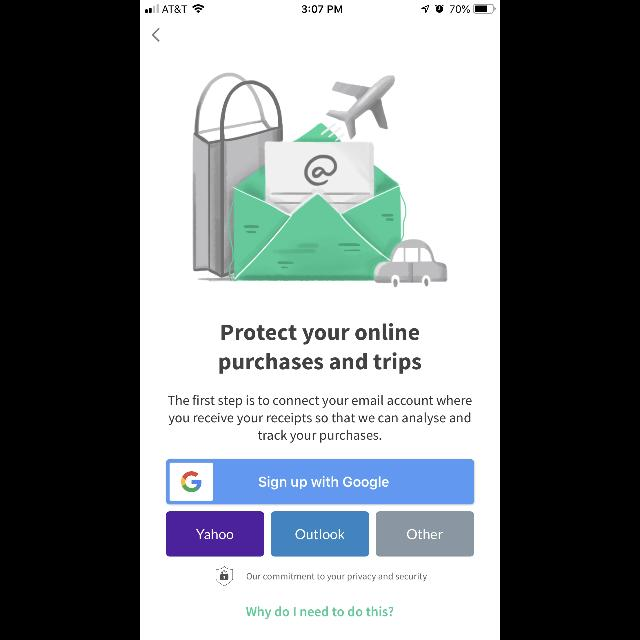icon: (216, 566, 234, 586), (152, 28, 160, 42)
image: (192, 72, 448, 288)
text: (168, 395, 472, 443), (219, 322, 421, 373), (246, 606, 394, 620), (247, 572, 427, 582)
textbutton: (166, 460, 474, 504), (166, 512, 264, 556), (271, 512, 369, 556), (376, 512, 474, 556)
uppertaskbar: (140, 0, 500, 14)
